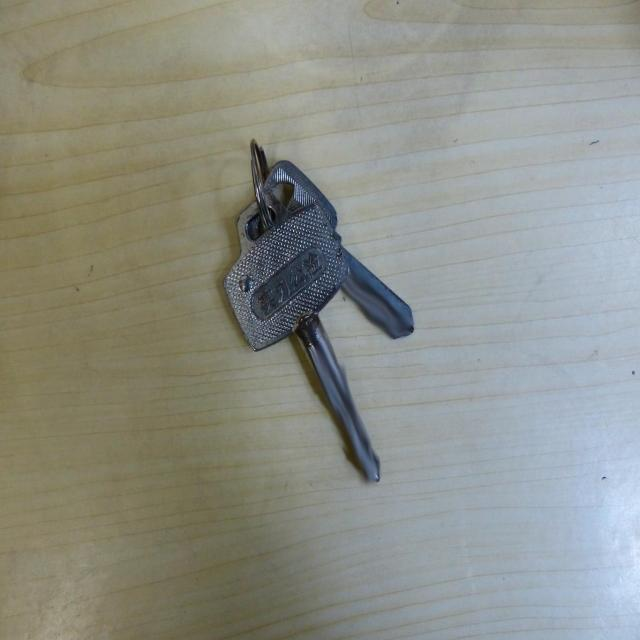Frontdoor keys: (219, 148, 414, 484)
